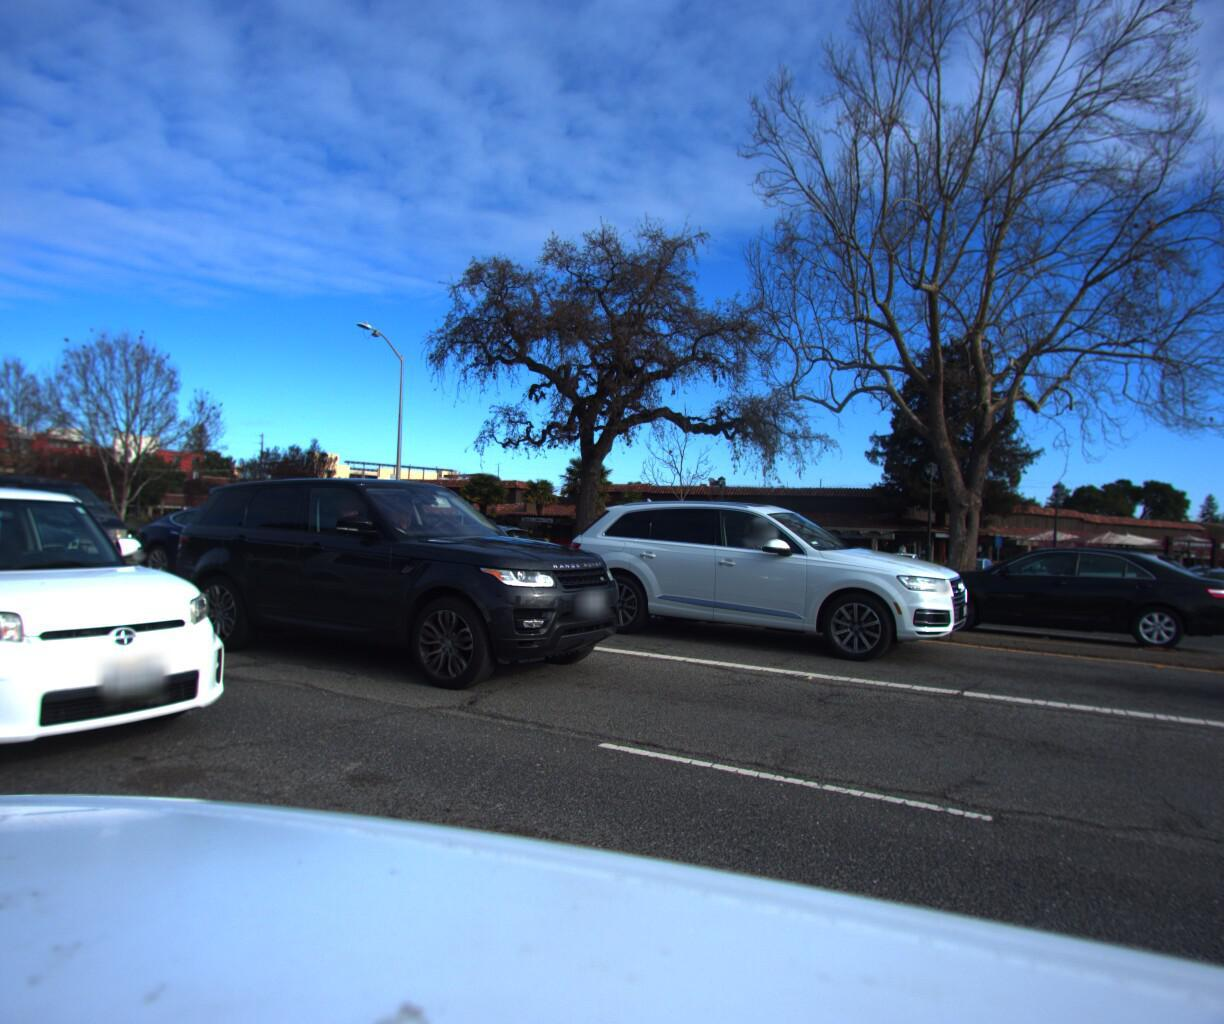car: (139, 465, 649, 709), (536, 486, 988, 677), (914, 541, 1224, 653), (116, 494, 406, 600), (959, 532, 1210, 634), (409, 516, 545, 579), (122, 507, 234, 551)
